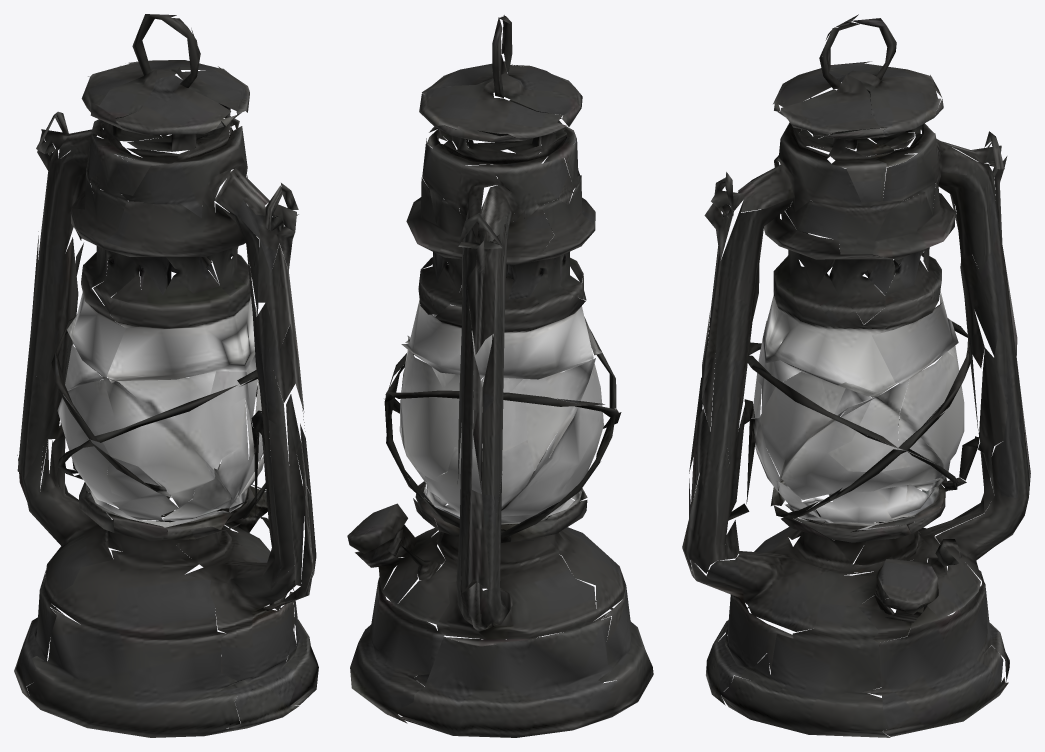
File: lantern.glb
3 renders of one model, left to right at view 1: azimuth 30°, elevation 25°; view 2: azimuth 150°, elevation 25°; view 3: azimuth 270°, elevation 25°, orthographic.
Visible parts, largest first — view 1: tripo_node_bd41e5a3-6000-46bb-881a-abef5427b9f2; view 2: tripo_node_bd41e5a3-6000-46bb-881a-abef5427b9f2; view 3: tripo_node_bd41e5a3-6000-46bb-881a-abef5427b9f2.
Boxes of the visible parts, left/top/right/bottom form: tripo_node_bd41e5a3-6000-46bb-881a-abef5427b9f2: left=14, top=14, right=318, bottom=737; tripo_node_bd41e5a3-6000-46bb-881a-abef5427b9f2: left=347, top=15, right=653, bottom=737; tripo_node_bd41e5a3-6000-46bb-881a-abef5427b9f2: left=682, top=14, right=1030, bottom=737.
Bounding box in the file's own units: 0.209 × 0.5 × 0.2407.
1 material, 1 textured.
